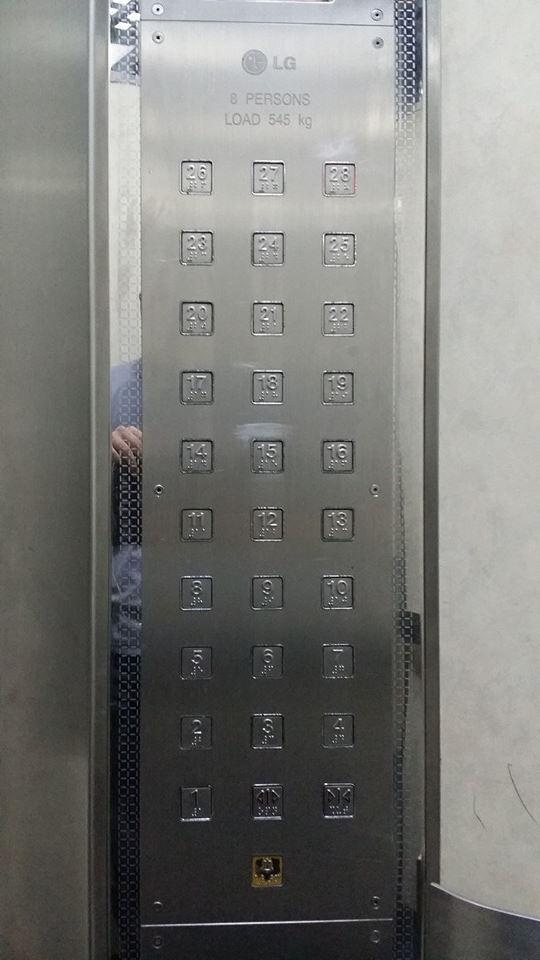1: (177, 781, 216, 824)
10: (320, 575, 356, 611)
11: (180, 507, 214, 542)
12: (250, 504, 285, 544)
13: (320, 506, 356, 541)
14: (180, 437, 214, 476)
15: (250, 438, 286, 475)
16: (320, 438, 355, 475)
17: (180, 368, 216, 406)
18: (250, 370, 285, 404)
19: (322, 370, 355, 406)
2: (180, 714, 214, 751)
20: (178, 300, 215, 336)
21: (252, 299, 285, 337)
22: (320, 300, 356, 339)
23: (178, 228, 217, 268)
24: (250, 228, 286, 268)
25: (320, 230, 357, 267)
26: (178, 158, 214, 195)
27: (250, 159, 286, 197)
28: (322, 161, 358, 198)
3: (249, 711, 287, 750)
4: (322, 711, 356, 750)
5: (180, 645, 215, 684)
6: (250, 642, 285, 684)
7: (320, 641, 357, 682)
8: (179, 575, 215, 612)
9: (250, 573, 285, 611)
alarm: (247, 851, 288, 894)
close: (318, 777, 360, 822)
open: (248, 779, 288, 823)
